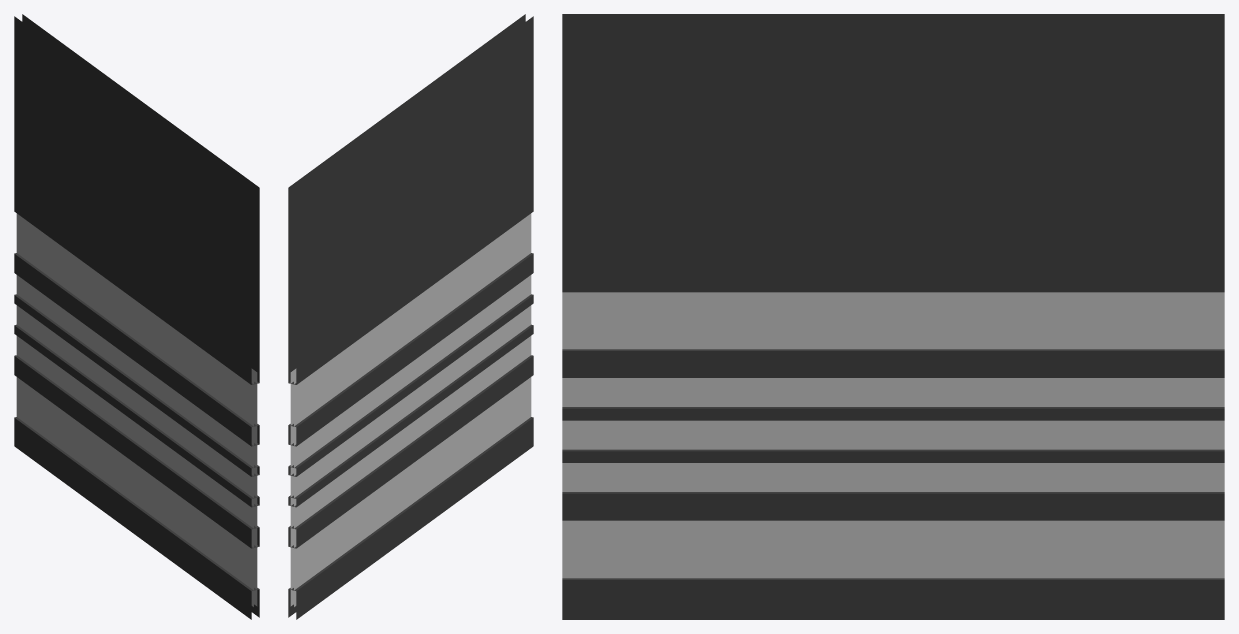
Rendered from Window_07_B_Interior.FBX.
3 renders of one model, left to right at view 1: azimuth 30°, elevation 25°; view 2: azimuth 150°, elevation 25°; view 3: azimuth 270°, elevation 25°, orthographic. The views are drawn at different scales.
Visible parts, largest first — view 1: Window_07_B_Interior; view 2: Window_07_B_Interior; view 3: Window_07_B_Interior.
Boxes of the visible parts, box(x1,y1,x2,y2) form: Window_07_B_Interior: box(14, 14, 259, 619); Window_07_B_Interior: box(288, 14, 533, 619); Window_07_B_Interior: box(562, 14, 1224, 619).
Size of the model in its own units: 3.6 by 180 by 180.
